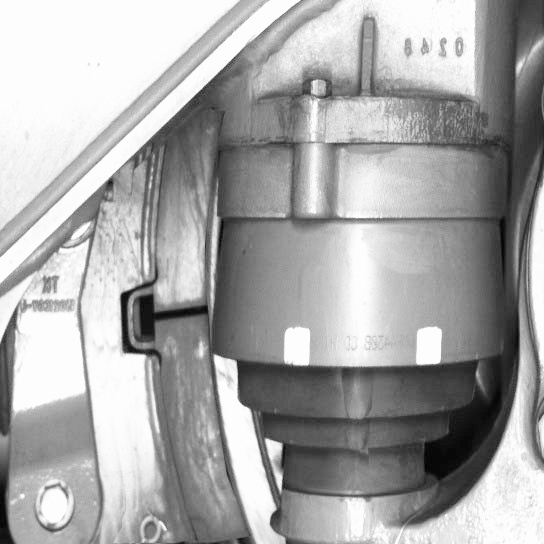ClosedKnifeSwitch: (140, 143, 259, 542)
